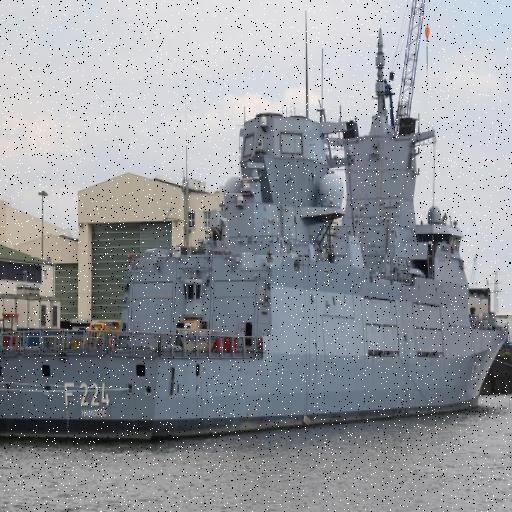Fragata: (1, 22, 511, 450)
